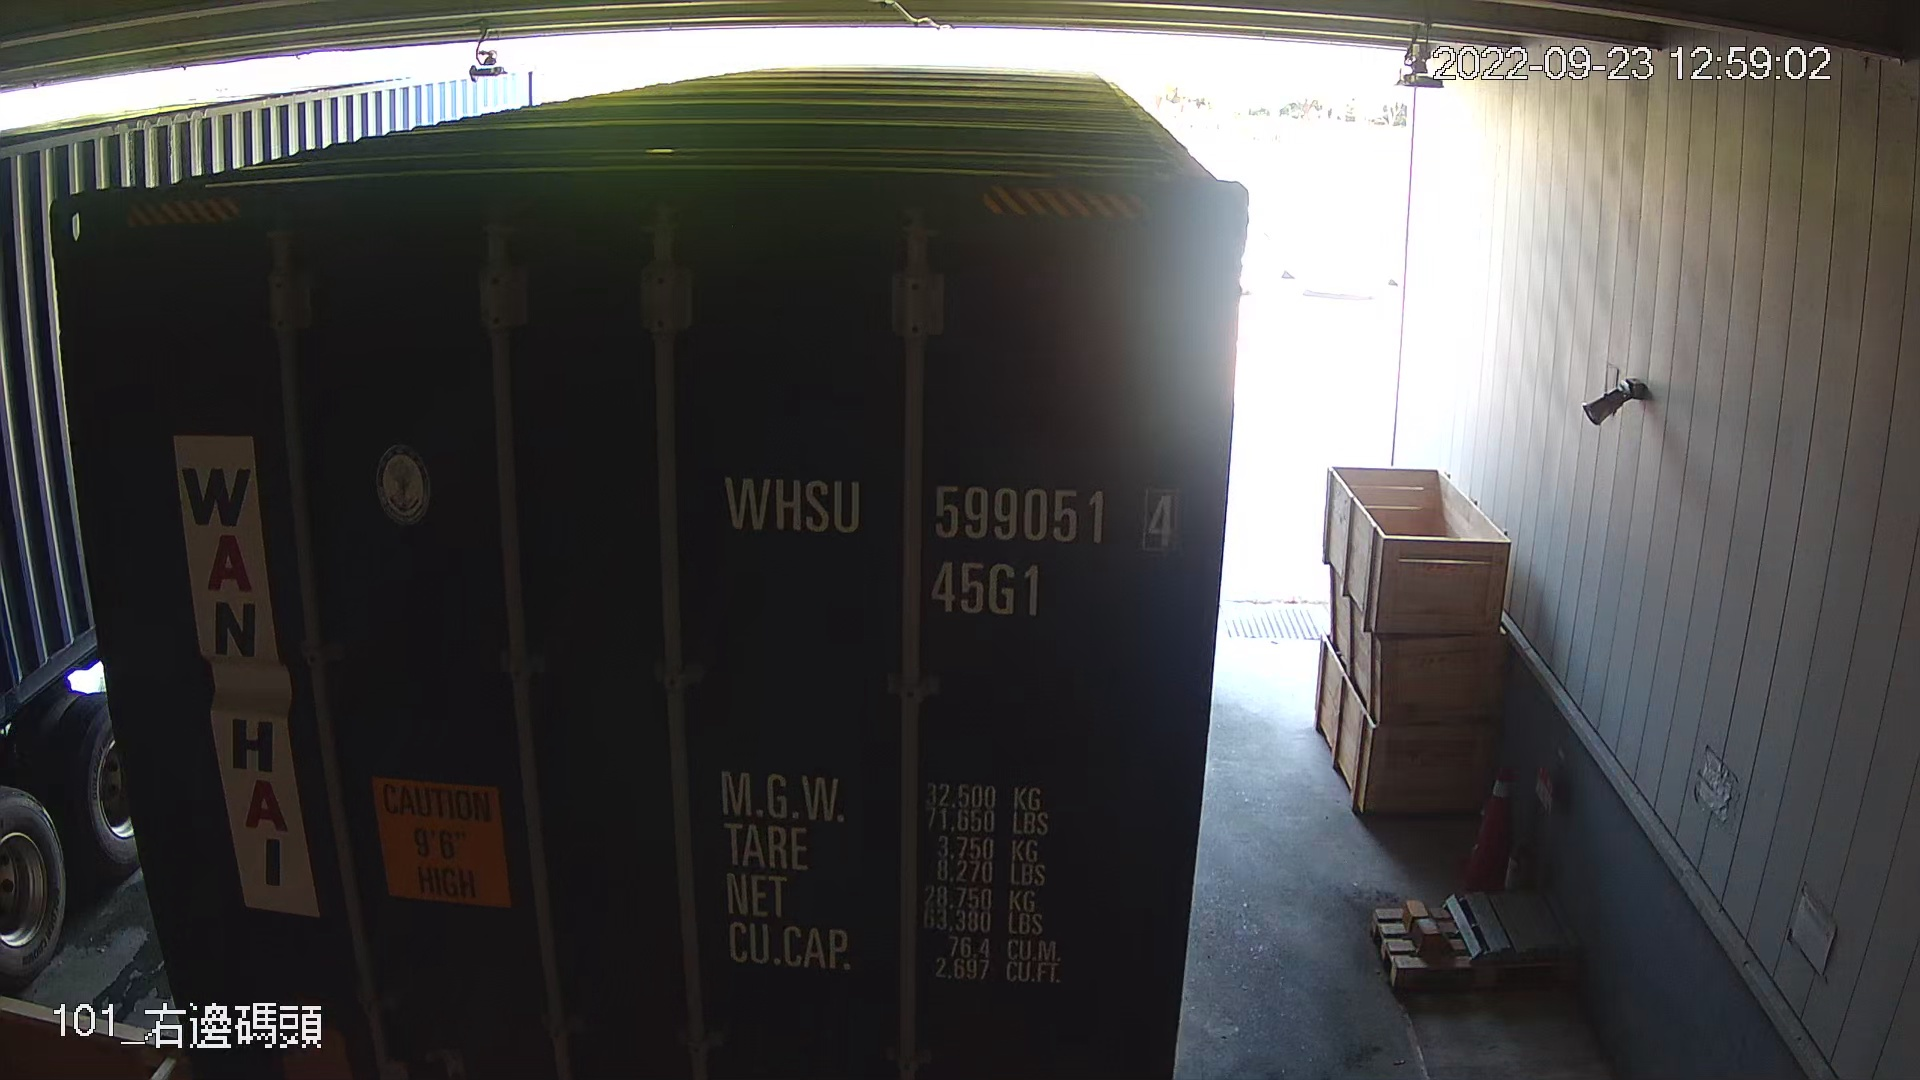container: (709, 448, 1192, 624)
